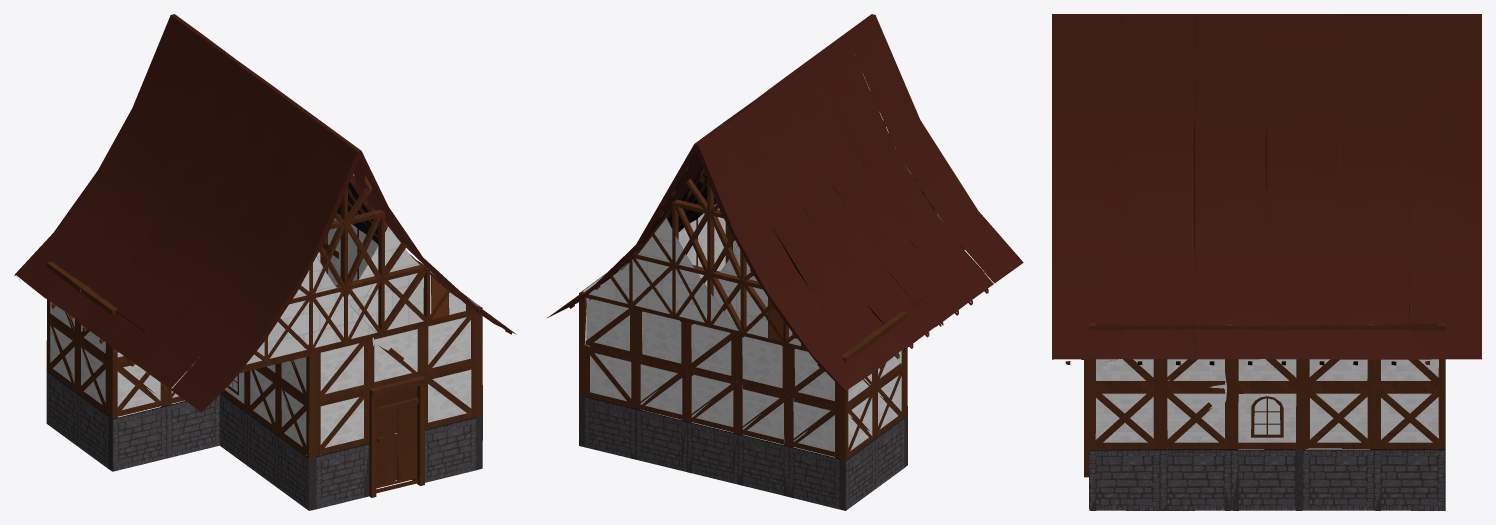
Rendered from House2_LOD3.fbx.
3 renders of one model, left to right at view 1: azimuth 30°, elevation 25°; view 2: azimuth 150°, elevation 25°; view 3: azimuth 270°, elevation 25°, orthographic. The views are drawn at different scales.
Visible parts, largest first — view 1: House2_LOD3; view 2: House2_LOD3; view 3: House2_LOD3.
Boxes of the visible parts, x1,y1,x2,y2 form: House2_LOD3: [14, 14, 516, 510]; House2_LOD3: [547, 14, 1023, 510]; House2_LOD3: [1052, 14, 1481, 510].
Size of the model in its own units: 1250 by 1370 by 1277.
